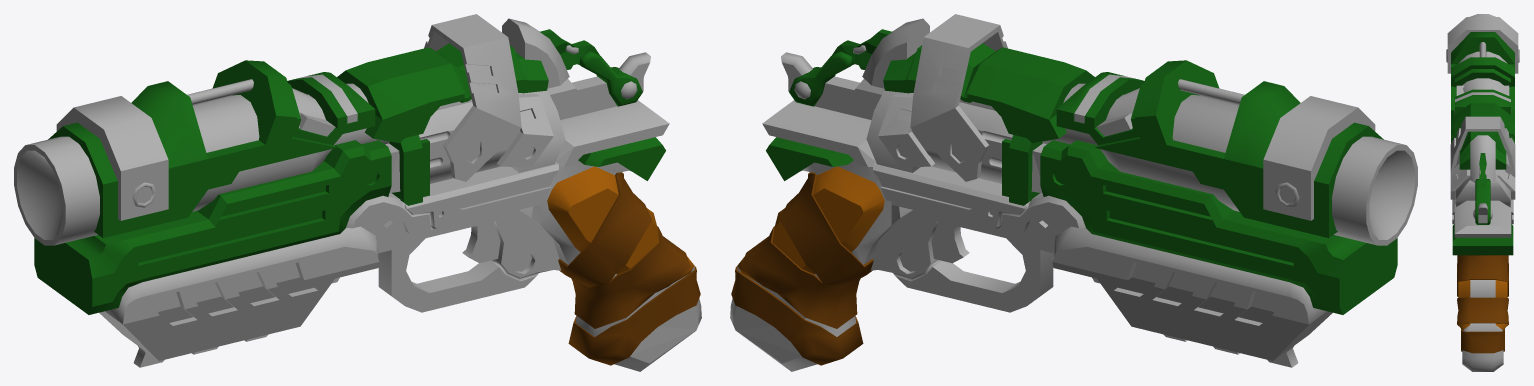
File: Pistol.fbx
3 renders of one model, left to right at view 1: azimuth 30°, elevation 25°; view 2: azimuth 150°, elevation 25°; view 3: azimuth 270°, elevation 25°, orthographic. The views are drawn at different scales.
Visible parts, largest first — view 1: Box001; view 2: Box001; view 3: Box001.
Part boxes in pixels (<box>): Box001: <box>14,14,701,371</box>; Box001: <box>730,14,1417,371</box>; Box001: <box>1446,14,1519,371</box>.
Bounding box in the file's own units: 86.43 × 49.08 × 15.21.
